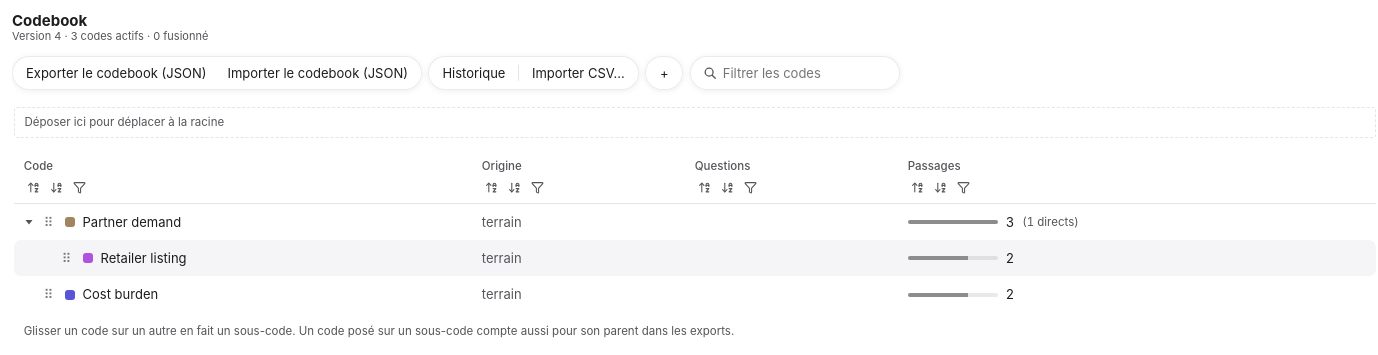
Scenario: codebook page › collapses a code with children
Expected: the text "Retailer listing" is shown, x1=100 y1=249 x2=186 y2=267
Step 1. Click the button named "Replier Partner demand" → (30, 222), box x1=24 y1=217 x2=36 y2=227
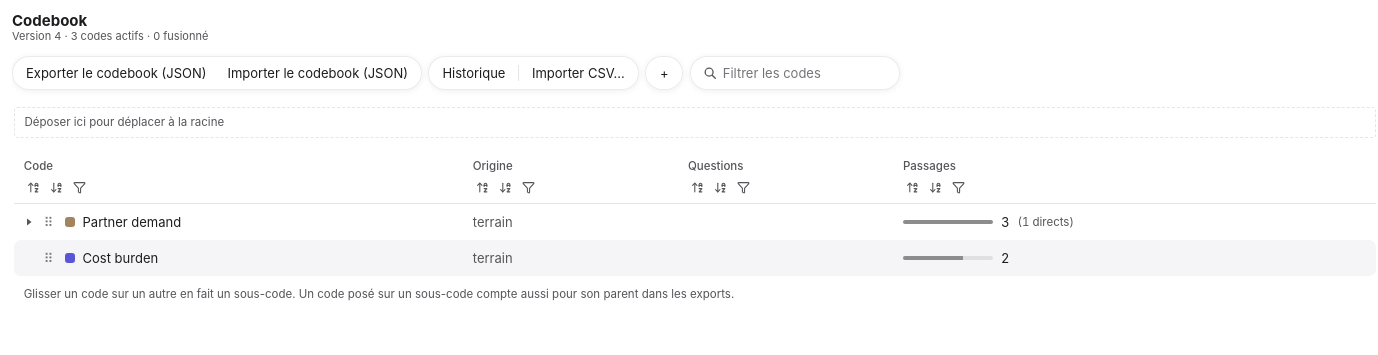
Result: the text "Retailer listing" is gone
